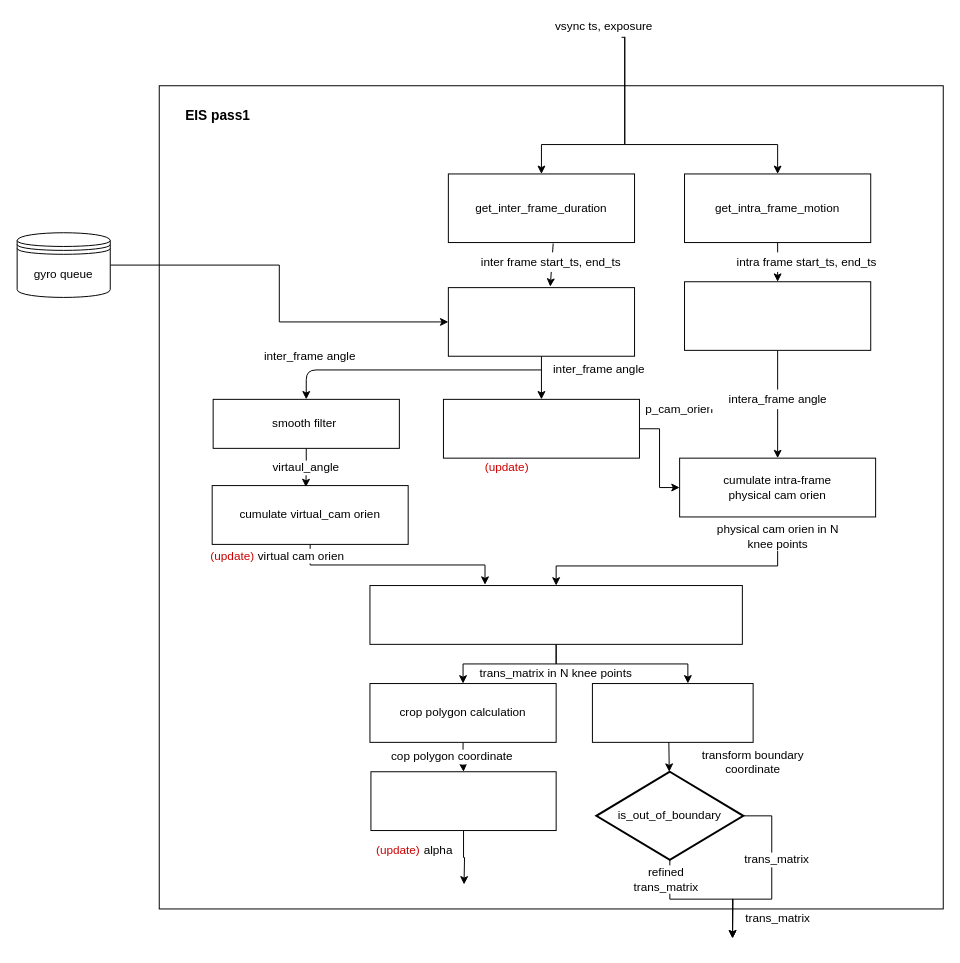
The diagram is 960 pixels wide and 963 high, and some of its shapes have lost their labels. Each missing label, with the centre of its shape:
adaptive smooth coefficient: (463,801)
boundary limitation calculation: (672,712)
cal trans_matrix: (555,614)
cal_inter_frame_motion: (541,321)
cal_intra_frame_motion: (777,315)
cumulate physical cam orien: (540,428)
